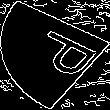P_SE: (12, 25, 98, 85)
